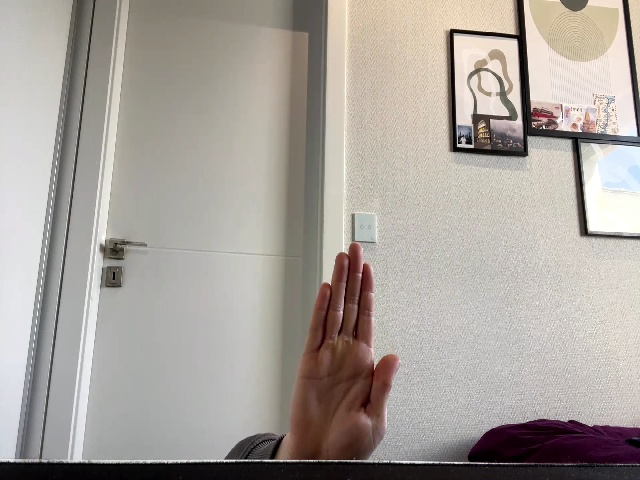B: (290, 242, 399, 460)
